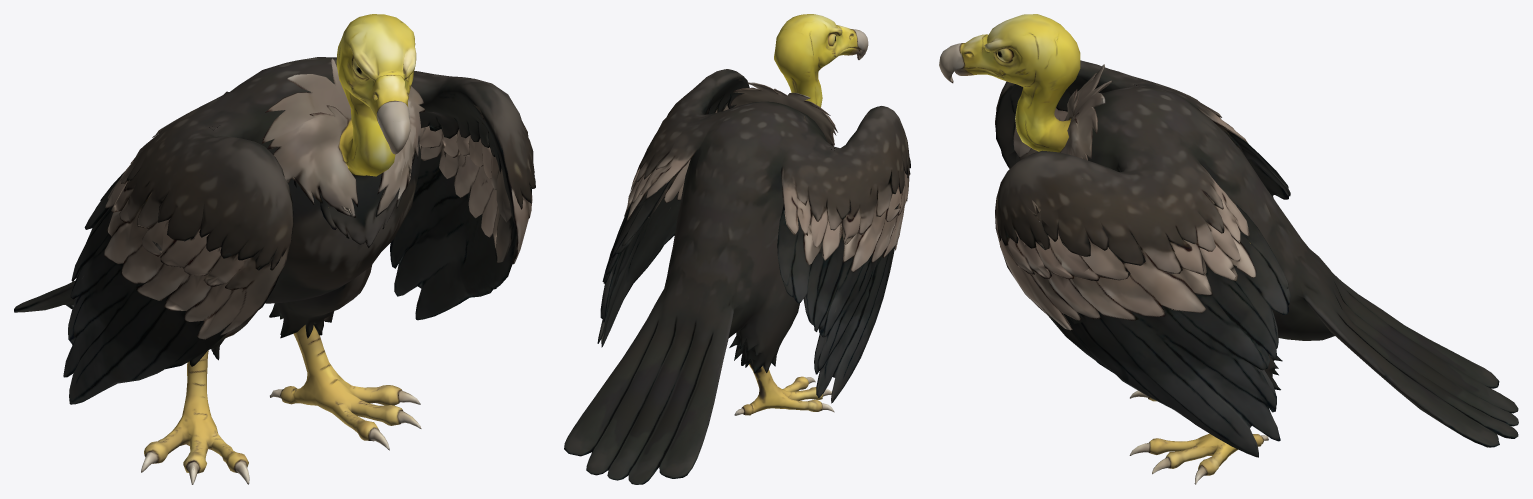
Rendered from Pok64. Guirrenton.glb.
3 renders of one model, left to right at view 1: azimuth 30°, elevation 25°; view 2: azimuth 150°, elevation 25°; view 3: azimuth 270°, elevation 25°, orthographic. The views are drawn at different scales.
Parts seen in each view (by area): view 1: geometry_0; view 2: geometry_0; view 3: geometry_0.
Part boxes in pixels (x1,y1,x2,y2): geometry_0: (14,14,535,484); geometry_0: (564,14,910,484); geometry_0: (939,14,1518,484).
Size of the model in its own units: 0.5811 by 0.7432 by 0.9536.
1 material, 1 textured.
